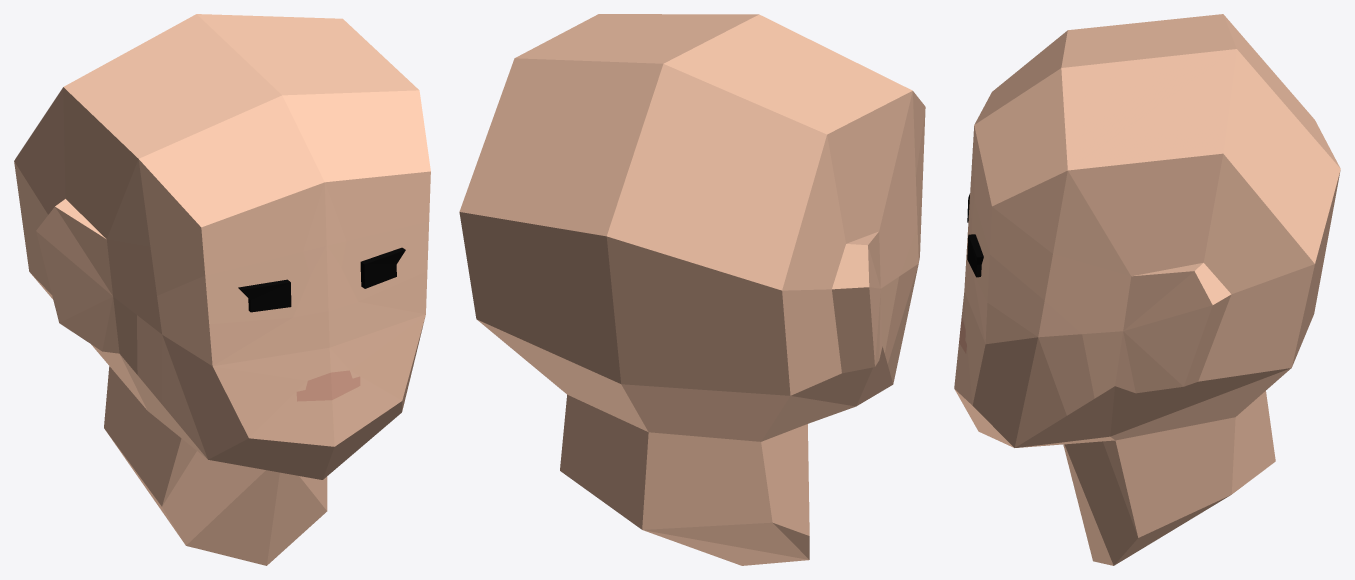
File: Chr_Head_Female_18_Static.fbx
The picture shows the model from 3 angles, left to right: view 1: azimuth 30°, elevation 25°; view 2: azimuth 150°, elevation 25°; view 3: azimuth 270°, elevation 25°; orthographic projection. The views are drawn at different scales.
Parts seen in each view (by area): view 1: Chr_Head_Female_18_Static; view 2: Chr_Head_Female_18_Static; view 3: Chr_Head_Female_18_Static.
Boxes of the visible parts, x1,y1,x2,y2 form: Chr_Head_Female_18_Static: (14, 14, 430, 565); Chr_Head_Female_18_Static: (459, 14, 925, 565); Chr_Head_Female_18_Static: (954, 14, 1340, 565).
Size of the model in its own units: 0.2661 by 0.3693 by 0.2526.
